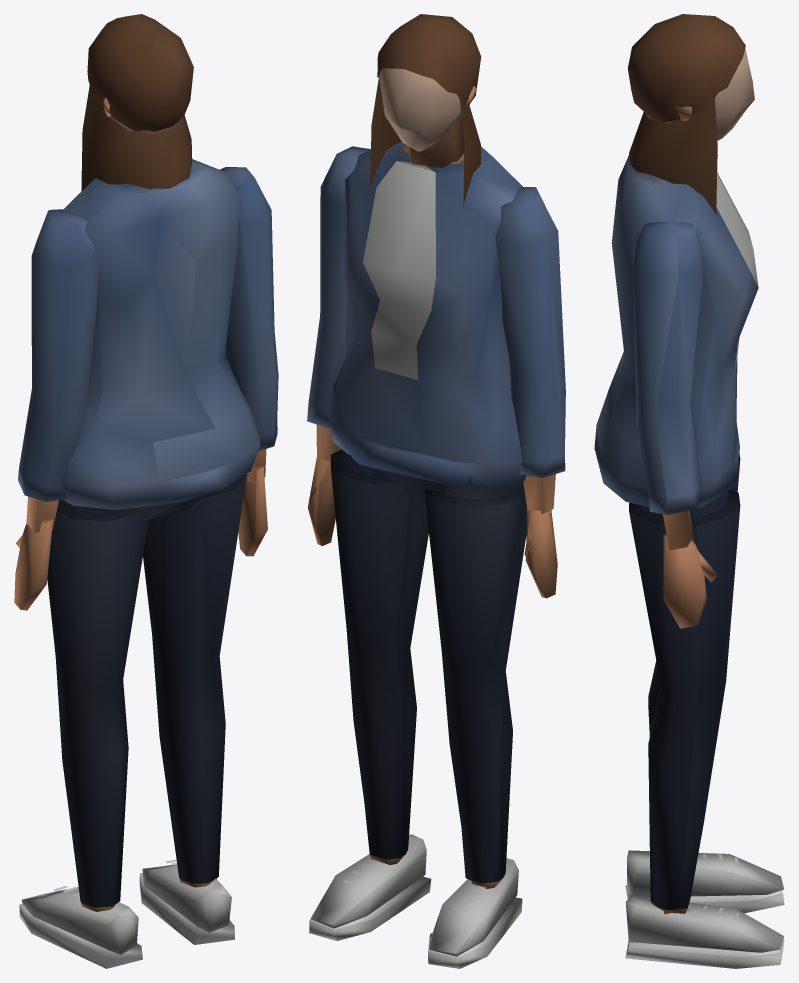
The model's file is crowd_denim_jacket_lod0.glb.
3 renders of one model, left to right at view 1: azimuth 30°, elevation 25°; view 2: azimuth 150°, elevation 25°; view 3: azimuth 270°, elevation 25°, orthographic.
Parts seen in each view (by area): view 1: crowd_denim_jacket_lod0; view 2: crowd_denim_jacket_lod0; view 3: crowd_denim_jacket_lod0.
Part boxes in pixels (left/top/right/bottom): crowd_denim_jacket_lod0: left=14, top=14, right=278, bottom=968; crowd_denim_jacket_lod0: left=307, top=14, right=565, bottom=968; crowd_denim_jacket_lod0: left=594, top=14, right=784, bottom=968.
Bounding box in the file's own units: 0.4917 × 1.69 × 0.3194.
